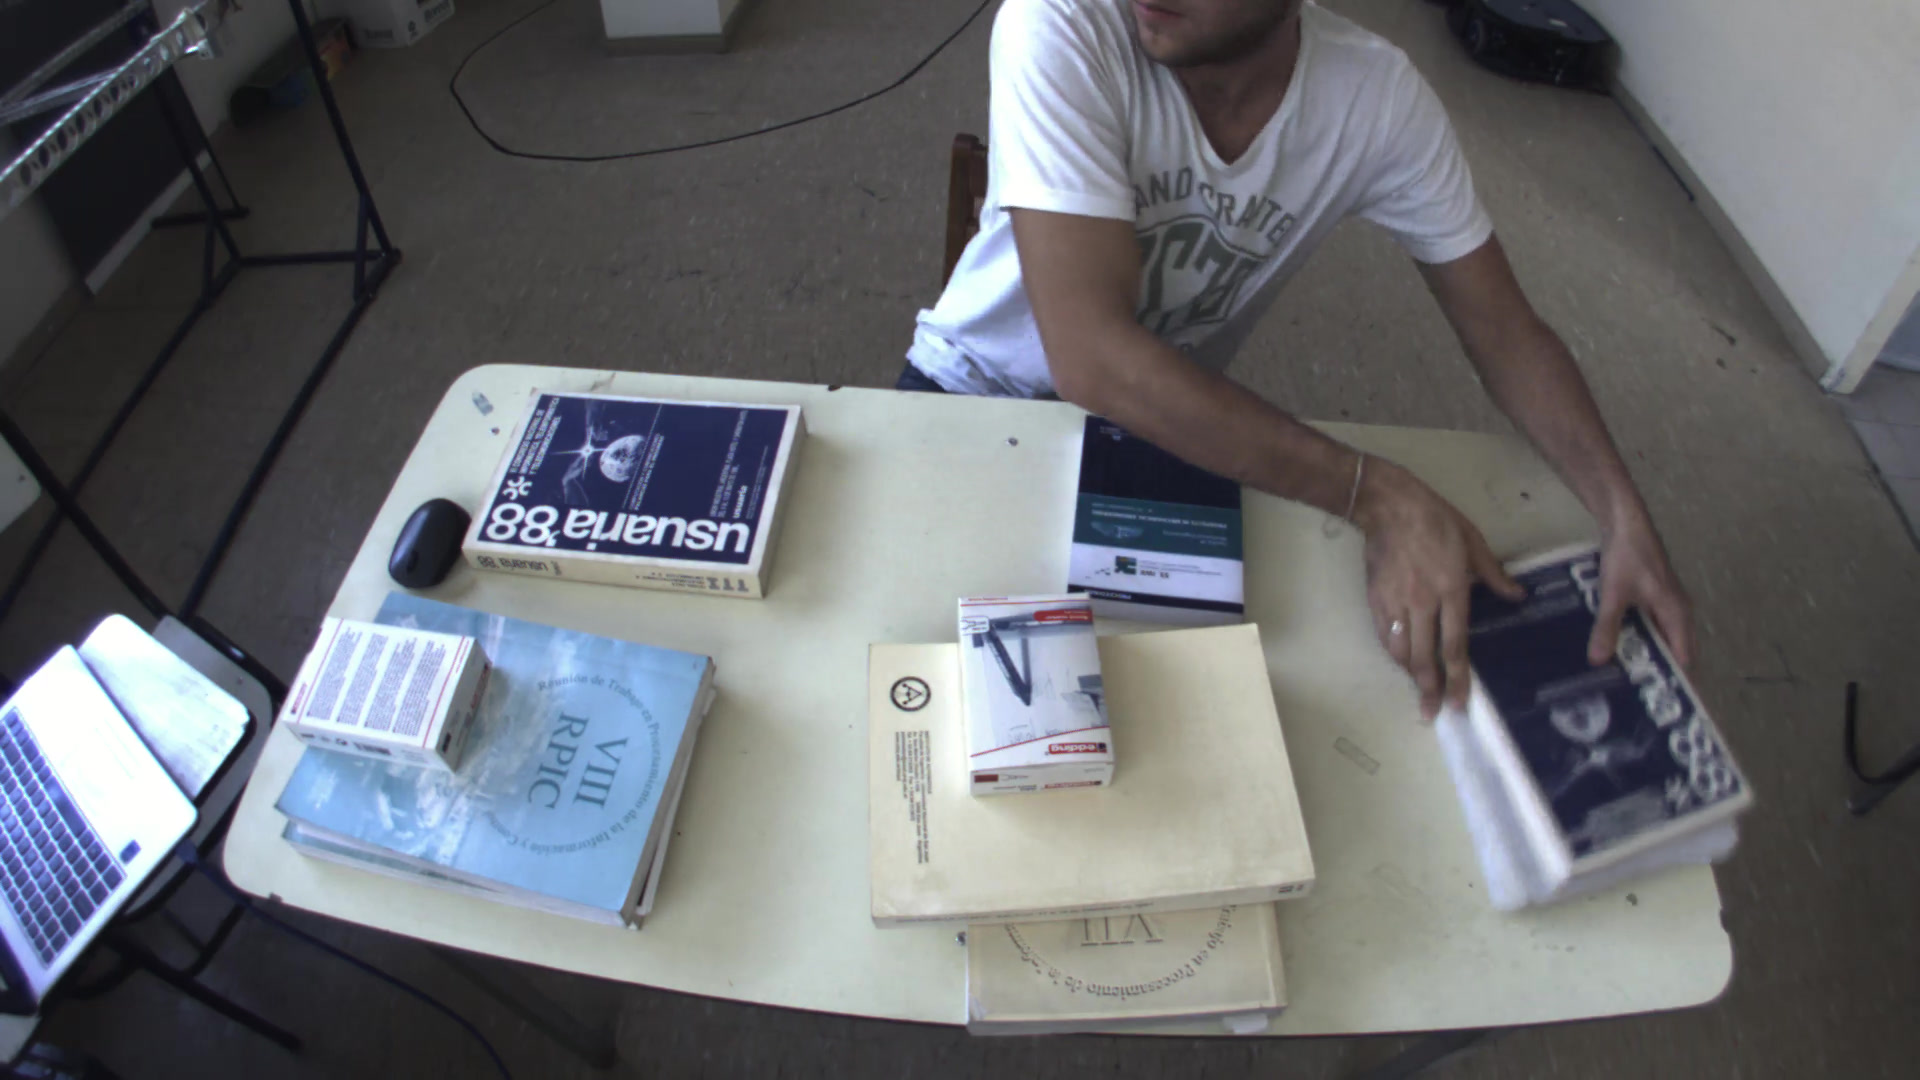hand: (1346, 479, 1540, 720), (1571, 531, 1706, 673)
